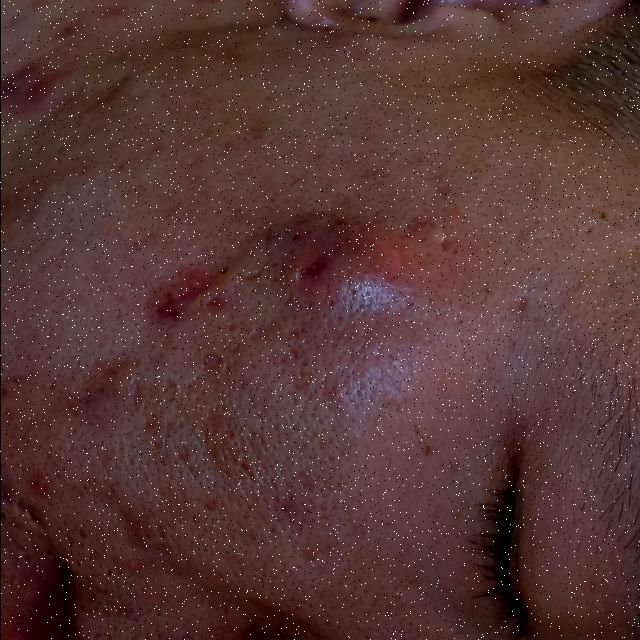nodules: (258, 198, 434, 342), (134, 255, 238, 348), (0, 42, 80, 144)
